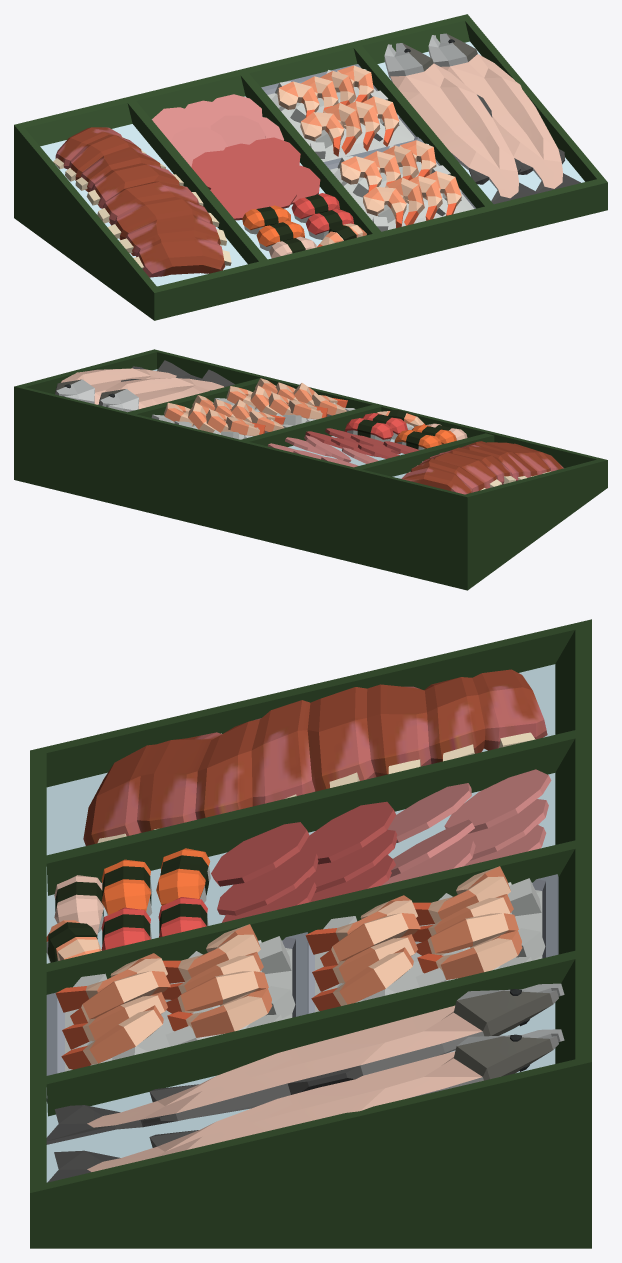
Rendered from SM_Prop_Market_Deli_Fridge_Insert_03.obj.
3 views of the same model, one above another, from view 1: azimuth 30°, elevation 25°; view 2: azimuth 150°, elevation 25°; view 3: azimuth 270°, elevation 25° (orthographic). The views are drawn at different scales.
Parts seen in each view (by area): view 1: SM_Prop_Market_Deli_Fridge_Insert_03_0; view 2: SM_Prop_Market_Deli_Fridge_Insert_03_0; view 3: SM_Prop_Market_Deli_Fridge_Insert_03_0.
Part boxes in pixels (x1,y1,x2,y2): SM_Prop_Market_Deli_Fridge_Insert_03_0: [14, 14, 607, 320]; SM_Prop_Market_Deli_Fridge_Insert_03_0: [14, 349, 607, 590]; SM_Prop_Market_Deli_Fridge_Insert_03_0: [30, 619, 591, 1248].
Size of the model in its own units: 2.03 by 0.3989 by 1.09.
1 material, 1 textured.
